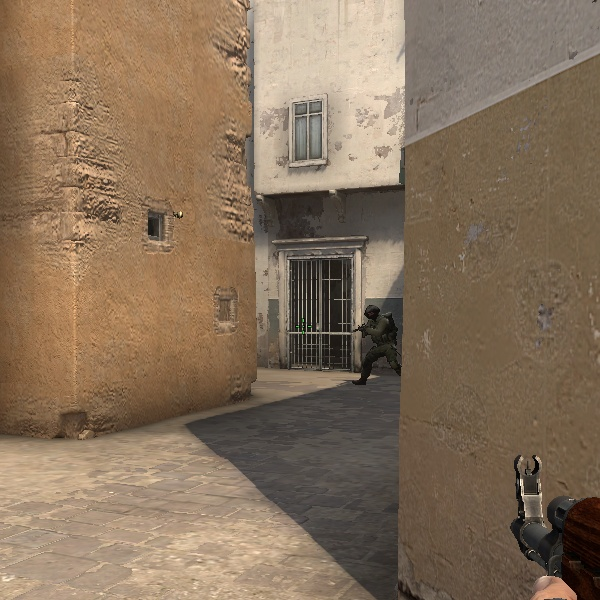ct_body: (352, 303, 399, 385)
ct_head: (364, 304, 381, 322)
